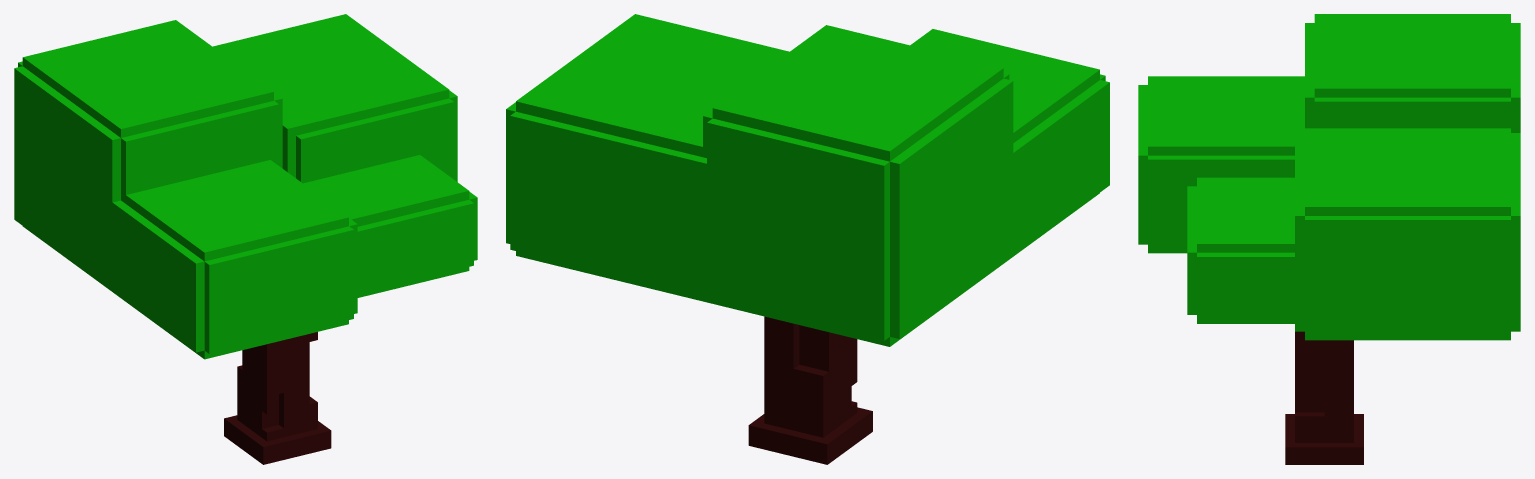
File: Tree_2_3.fbx
3 views of the same model, side by side, from view 1: azimuth 30°, elevation 25°; view 2: azimuth 150°, elevation 25°; view 3: azimuth 270°, elevation 25° (orthographic). The views are drawn at different scales.
Visible parts, largest first — view 1: Tree_2_3; view 2: Tree_2_3; view 3: Tree_2_3.
Part boxes in pixels (<box>): Tree_2_3: <box>14,14,477,464</box>; Tree_2_3: <box>506,14,1109,464</box>; Tree_2_3: <box>1138,14,1520,464</box>.
Bounding box in the file's own units: 4000 × 4000 × 3900.
